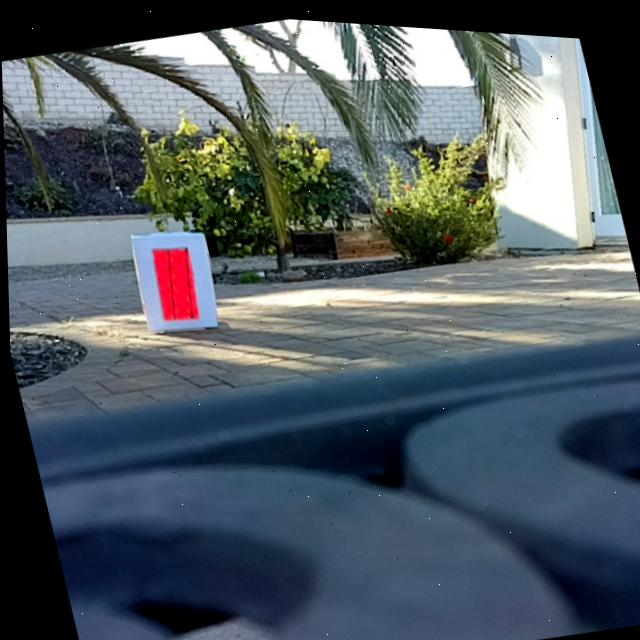led: (145, 238, 202, 324)
